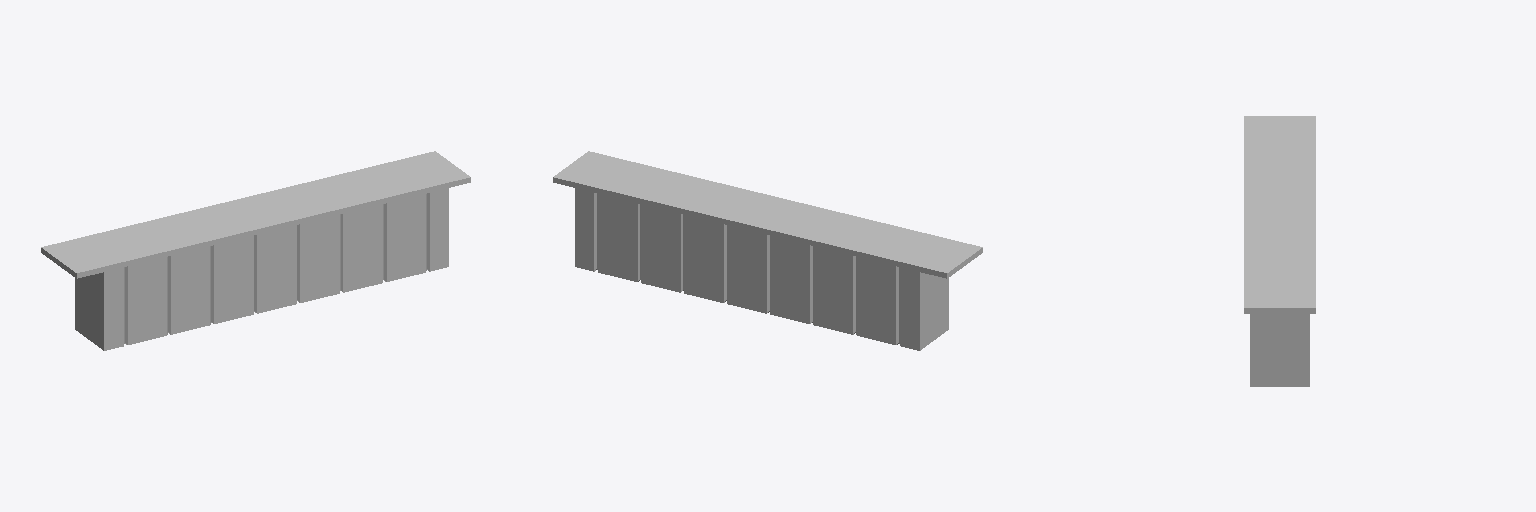
File: Head.obj
3 views of the same model, side by side, from view 1: azimuth 30°, elevation 25°; view 2: azimuth 150°, elevation 25°; view 3: azimuth 270°, elevation 25° (orthographic).
Parts seen in each view (by area): view 1: Cube.002; view 2: Cube.002; view 3: Cube.002.
Boxes of the visible parts, box(x1,y1,x2,y2) form: Cube.002: box(41, 151, 470, 350); Cube.002: box(553, 151, 982, 350); Cube.002: box(1244, 116, 1315, 386).
Size of the model in its own units: 28.75 by 6.09 by 4.51.